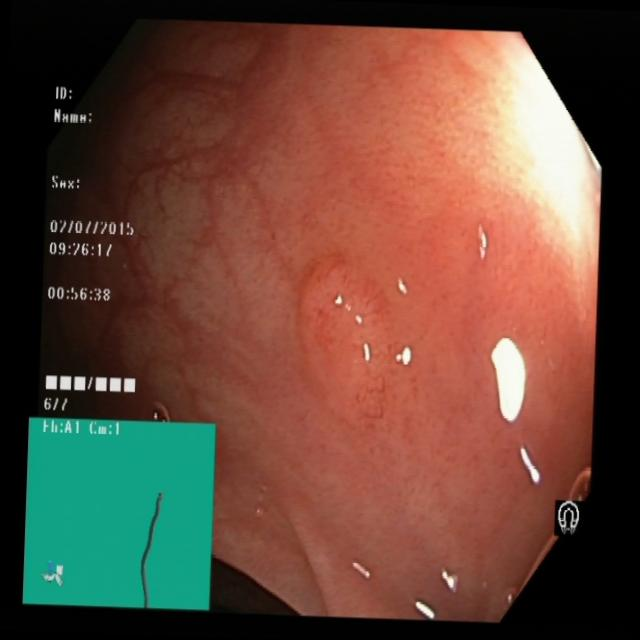Polyps: (287, 240, 401, 434)
